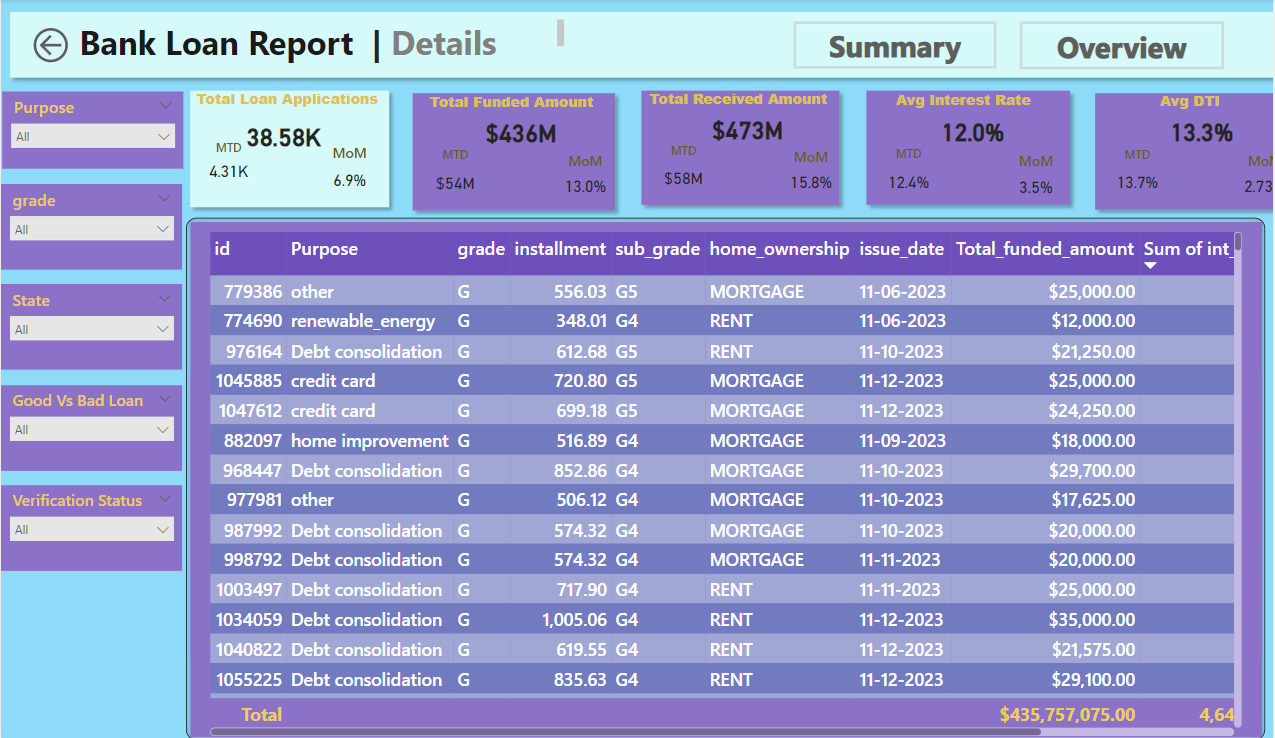

The dashboard page shown, as its layout file describes it:
{"tool":"powerbi","page":{"name":"Details","canvas":[1450,850],"ordinal":2},"visuals":[{"type":"shape","box":[1.9,5.6,1497.6,92.8],"z":0},{"type":"shape","box":[206,96,244.6,150.6],"z":0,"group":"g1"},{"type":"shape","box":[721.2,96,243.7,148.2],"z":0,"group":"g3"},{"type":"shape","box":[976.5,96,250,148],"z":0,"group":"g4"},{"type":"shape","box":[460,98.4,248.6,151.6],"z":0,"group":"g2"},{"type":"shape","box":[1237.8,98.4,244.6,150.7],"z":0,"group":"g5"},{"type":"textbox","box":[83.5,18.6,562.3,64.9],"z":1000},{"type":"card","fields":{"Values":["Table.total_received_amount"]},"box":[796.2,125.6,109.6,45.2],"z":1000,"group":"g3"},{"type":"card","fields":{"Values":["Table.Avg_interest_rate"]},"box":[1051.9,127.5,109.8,47.3],"z":1000,"group":"g4"},{"type":"card","fields":{"Values":["Table.Avg DTI"]},"box":[1313.1,128.5,110,45.9],"z":1000,"group":"g5"},{"type":"card","fields":{"Values":["Table.total_funded_amount"]},"box":[536.5,128.7,111.8,46.2],"z":1000,"group":"g2"},{"type":"card","fields":{"Values":["Table.Total Applications"]},"box":[261.7,135,120.6,44.5],"z":1000,"group":"g1"},{"type":"group","id":"g1","title":"Group 1","box":[206,96,244.6,150.6],"z":2000},{"type":"textbox","box":[211.1,98.1,227.8,36.2],"z":2000,"group":"g1"},{"type":"textbox","box":[726.2,98.1,226.9,35.6],"z":2000,"group":"g3"},{"type":"textbox","box":[981.8,98.7,227.3,37.3],"z":2000,"group":"g4"},{"type":"textbox","box":[465.1,100.5,231.4,36.4],"z":2000,"group":"g2"},{"type":"textbox","box":[1242.9,100.5,227.8,36.2],"z":2000,"group":"g5"},{"type":"group","id":"g2","title":"Group 1","box":[460,98.4,248,151.5],"z":3000},{"type":"card","title":"MTD","fields":{"Values":["Table.MTD"]},"box":[229.6,160.4,57.4,58.2],"z":3000,"group":"g1"},{"type":"card","title":"MTD","fields":{"Values":["Table.MTD_received_amt"]},"box":[746.4,164.1,62.6,65.3],"z":3000,"group":"g3"},{"type":"card","title":"MTD","fields":{"Values":["Table.MTD_DTI"]},"box":[1263.1,167.7,62.9,66.4],"z":3000,"group":"g5"},{"type":"card","title":"MTD","fields":{"Values":["Table.MTD_interest_rate"]},"box":[1002,167.8,62.7,68.4],"z":3000,"group":"g4"},{"type":"card","title":"MTD","fields":{"Values":["Table.MTD_funded_amt"]},"box":[485.7,168.1,63.9,66.8],"z":3000,"group":"g2"},{"type":"group","id":"g3","title":"Group 1","box":[721.2,96,244,150],"z":4000},{"type":"card","title":"MoM","fields":{"Values":["Table.Months_over_month"]},"box":[353.7,164.2,85.2,64.4],"z":4000,"group":"g1"},{"type":"card","title":"MoM","fields":{"Values":["Table.MoM_Received_amt"]},"box":[887.5,168.4,71.2,60.2],"z":4000,"group":"g3"},{"type":"card","title":"MoM","fields":{"Values":["Table.MoM_DTI"]},"box":[1404.7,172.1,71.4,61.3],"z":4000,"group":"g5"},{"type":"card","title":"MoM","fields":{"Values":["Table.MoM_Interest_rate"]},"box":[1143.3,172.3,71.3,63.1],"z":4000,"group":"g4"},{"type":"card","title":"MoM","fields":{"Values":["Table.MoM_Funded_amt"]},"box":[629.6,172.5,72.6,61.6],"z":4000,"group":"g2"},{"type":"group","id":"g4","title":"Group 1","box":[976.5,96,250,148],"z":5000},{"type":"group","id":"g5","title":"Group 1","box":[1237.8,98.4,245,150.3],"z":6000},{"type":"slicer","fields":{"Values":["loan.purpose"]},"box":[1.9,105.2,206.6,88.3],"z":7000},{"type":"slicer","fields":{"Values":["loan.grade"]},"box":[0,210.3,206.6,97.6],"z":8000},{"type":"slicer","fields":{"Values":["loan.address_state"]},"box":[0,324.9,206.6,97.6],"z":9000},{"type":"slicer","fields":{"Values":["loan.Good vs Bad Loan"]},"box":[0,439.4,206.6,97.6],"z":10000},{"type":"shape","box":[210.3,249.7,1230,595.3],"z":11000},{"type":"tableEx","fields":{"Values":["loan.id","loan.Purpose","loan.grade","loan.installment","loan.sub_grade","loan.home_ownership","loan.issue_date","Table.Total_funded_amount","Sum(loan.int_rate)","Table.Total_received_amount"]},"box":[232.8,261,1186.8,584],"z":12000},{"type":"slicer","fields":{"Values":["loan.verification_status"]},"box":[0,554,206.6,97.6],"z":13000},{"type":"actionButton","title":"Overview Button","box":[903.5,25.9,231.4,53.9],"z":14000},{"type":"actionButton","title":"Overview Button","box":[1160.5,26.3,232.8,54.5],"z":15000},{"type":"actionButton","box":[31.9,26.3,50.7,54.5],"z":16000}]}

Visuals, with their boxes in screenshot pixels (x1, y1, x2, y2), scaled from the page's 1450x850 canvas onto the 1275x738 screenshot:
shape: l=2, t=5, r=1274, b=85
shape: l=181, t=83, r=396, b=214
shape: l=634, t=83, r=848, b=212
shape: l=859, t=83, r=1078, b=212
shape: l=404, t=85, r=623, b=217
shape: l=1088, t=85, r=1274, b=216
textbox: l=73, t=16, r=568, b=72
card - Table.total_received_amount: l=700, t=109, r=796, b=148
card - Table.Avg_interest_rate: l=925, t=111, r=1021, b=152
card - Table.Avg DTI: l=1155, t=112, r=1251, b=151
card - Table.total_funded_amount: l=472, t=112, r=570, b=152
card - Table.Total Applications: l=230, t=117, r=336, b=156
"Group 1" group: l=181, t=83, r=396, b=214
textbox: l=186, t=85, r=386, b=117
textbox: l=639, t=85, r=838, b=116
textbox: l=863, t=86, r=1063, b=118
textbox: l=409, t=87, r=612, b=119
textbox: l=1093, t=87, r=1274, b=119
"Group 1" group: l=404, t=85, r=623, b=217
"MTD" card: l=202, t=139, r=252, b=190
"MTD" card: l=656, t=142, r=711, b=199
"MTD" card: l=1111, t=146, r=1166, b=203
"MTD" card: l=881, t=146, r=936, b=205
"MTD" card: l=427, t=146, r=483, b=204
"Group 1" group: l=634, t=83, r=849, b=214
"MoM" card: l=311, t=143, r=386, b=198
"MoM" card: l=780, t=146, r=843, b=198
"MoM" card: l=1235, t=149, r=1274, b=203
"MoM" card: l=1005, t=150, r=1068, b=204
"MoM" card: l=554, t=150, r=617, b=203
"Group 1" group: l=859, t=83, r=1078, b=212
"Group 1" group: l=1088, t=85, r=1274, b=216
slicer - loan.purpose: l=2, t=91, r=183, b=168
slicer - loan.grade: l=0, t=183, r=182, b=267
slicer - loan.address_state: l=0, t=282, r=182, b=367
slicer - loan.Good vs Bad Loan: l=0, t=382, r=182, b=466
shape: l=185, t=217, r=1266, b=734
tableEx - loan.id x loan.Purpose: l=205, t=227, r=1248, b=734
slicer - loan.verification_status: l=0, t=481, r=182, b=566
"Overview Button" actionButton: l=794, t=22, r=998, b=69
"Overview Button" actionButton: l=1020, t=23, r=1225, b=70
actionButton: l=28, t=23, r=73, b=70
